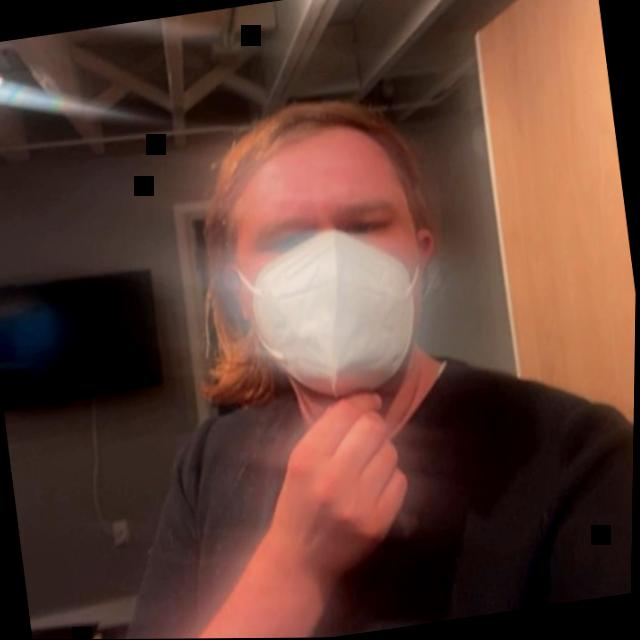Mask: (157, 87, 458, 401)
